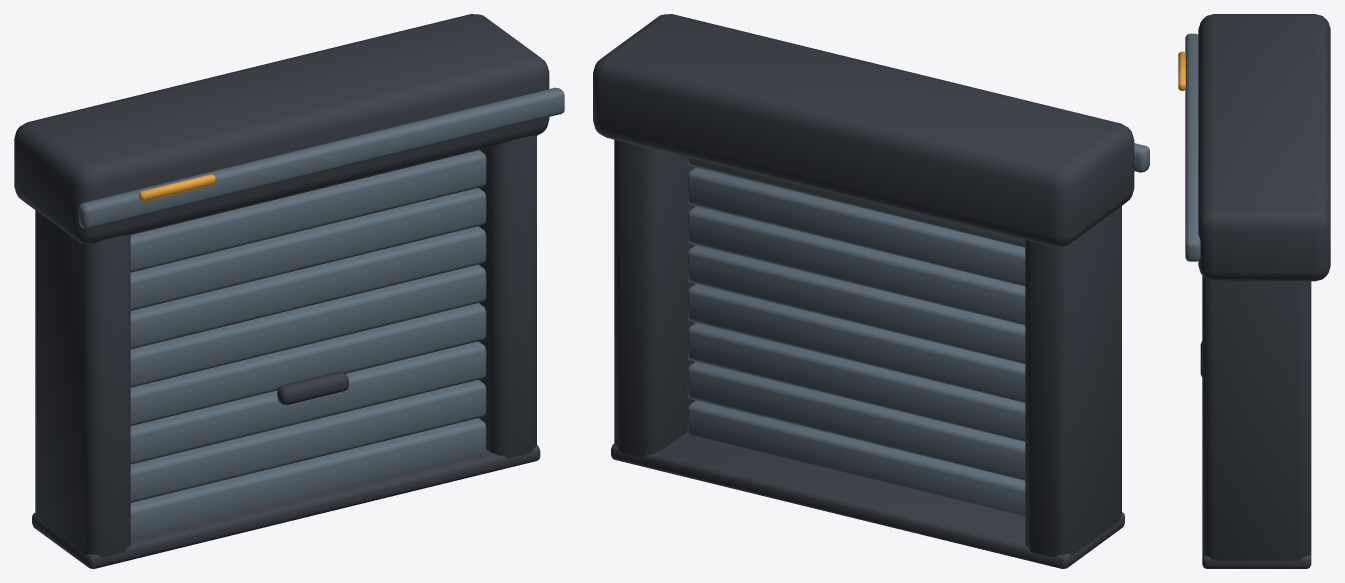
The model's file is Garage_Door.fbx.
3 renders of one model, left to right at view 1: azimuth 30°, elevation 25°; view 2: azimuth 150°, elevation 25°; view 3: azimuth 270°, elevation 25°, orthographic. The views are drawn at different scales.
Parts seen in each view (by area): view 1: Garage, Garagedark, Neon_Amber; view 2: Garagedark, Garage; view 3: Garagedark, Garage, Neon_Amber.
Boxes of the visible parts, <box> form: Garage: <box>78,87,564,537</box>; Garagedark: <box>14,14,549,568</box>; Neon_Amber: <box>139,174,215,201</box>; Garagedark: <box>593,14,1134,568</box>; Garage: <box>687,143,1149,515</box>; Garagedark: <box>1198,14,1330,568</box>; Garage: <box>1185,33,1200,261</box>; Neon_Amber: <box>1178,51,1185,90</box>.
Size of the model in its own units: 12.8 by 10.2 by 3.92.
